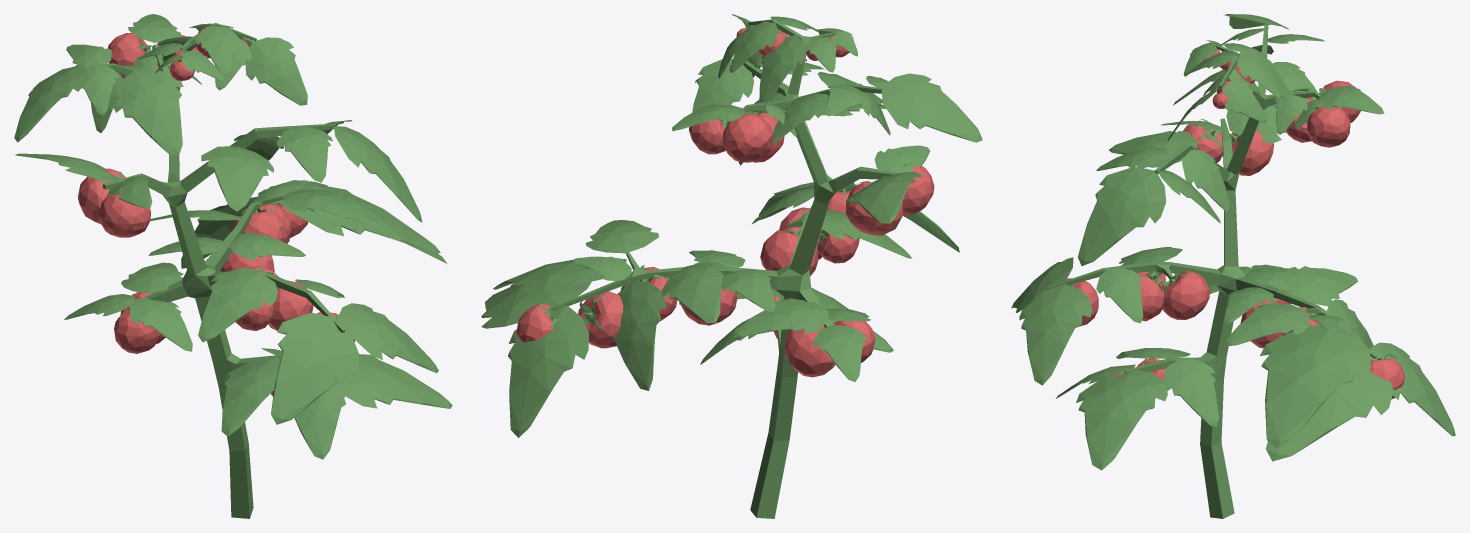
Rendered from TomatTahap3.fbx.
3 views of the same model, side by side, from view 1: azimuth 30°, elevation 25°; view 2: azimuth 150°, elevation 25°; view 3: azimuth 270°, elevation 25° (orthographic). The views are drawn at different scales.
Parts seen in each view (by area): view 1: TomatTahap3.001; view 2: TomatTahap3.001; view 3: TomatTahap3.001.
Part boxes in pixels (x1,y1,x2,y2): TomatTahap3.001: [14, 14, 452, 518]; TomatTahap3.001: [481, 14, 982, 518]; TomatTahap3.001: [1011, 14, 1455, 518].
Bounding box in the file's own units: 79.06 × 81.92 × 72.88.
